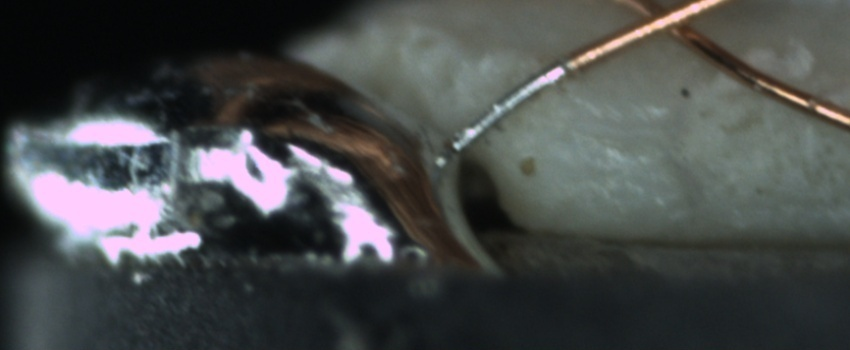CL: (612, 2, 722, 46)
DL: (544, 107, 673, 158)
TS: (453, 58, 573, 155)
